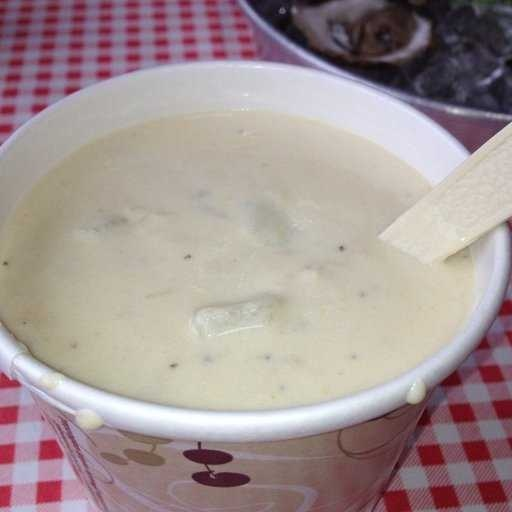soup: (10, 91, 439, 409)
